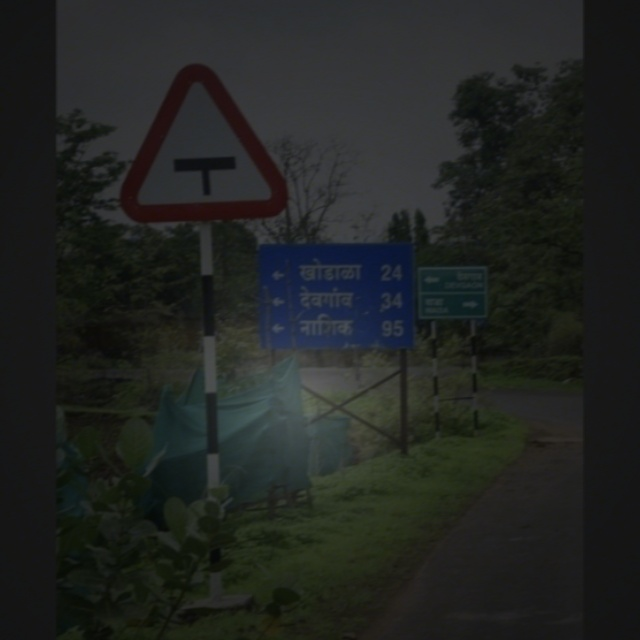T_Intersection: (119, 69, 293, 218)
